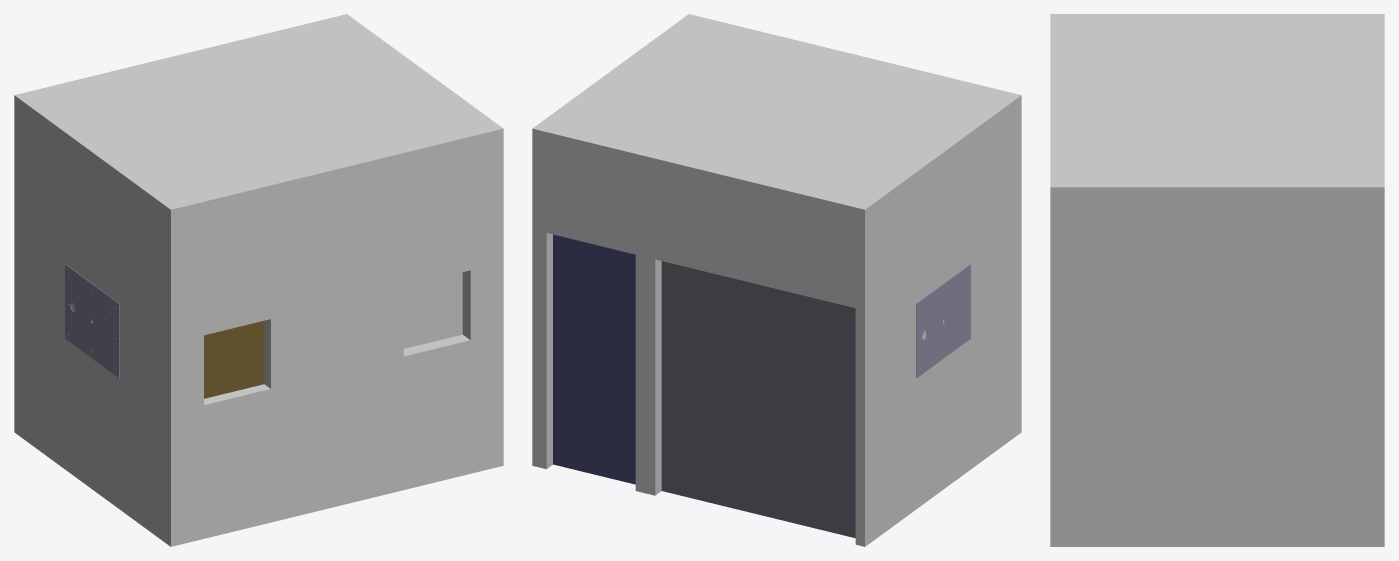
Rendered from assembly.glb.
3 renders of one model, left to right at view 1: azimuth 30°, elevation 25°; view 2: azimuth 150°, elevation 25°; view 3: azimuth 270°, elevation 25°, orthographic. The views are drawn at different scales.
Visible parts, largest first — view 1: container_shell, ARC-PLT-CG, GRD-XFM-001; view 2: container_shell, GRD-LVS-001, GRD-SWG-001, ARC-PLT-CG; view 3: container_shell.
Part boxes in pixels (<box>): container_shell: <box>14,14,503,546</box>; ARC-PLT-CG: <box>65,264,119,377</box>; GRD-XFM-001: <box>204,321,264,398</box>; container_shell: <box>532,14,1021,546</box>; GRD-LVS-001: <box>661,261,855,538</box>; GRD-SWG-001: <box>553,234,635,484</box>; ARC-PLT-CG: <box>916,264,970,377</box>; container_shell: <box>1050,14,1384,546</box>.
Bounding box in the file's own units: 2996 × 2896 × 2438.
